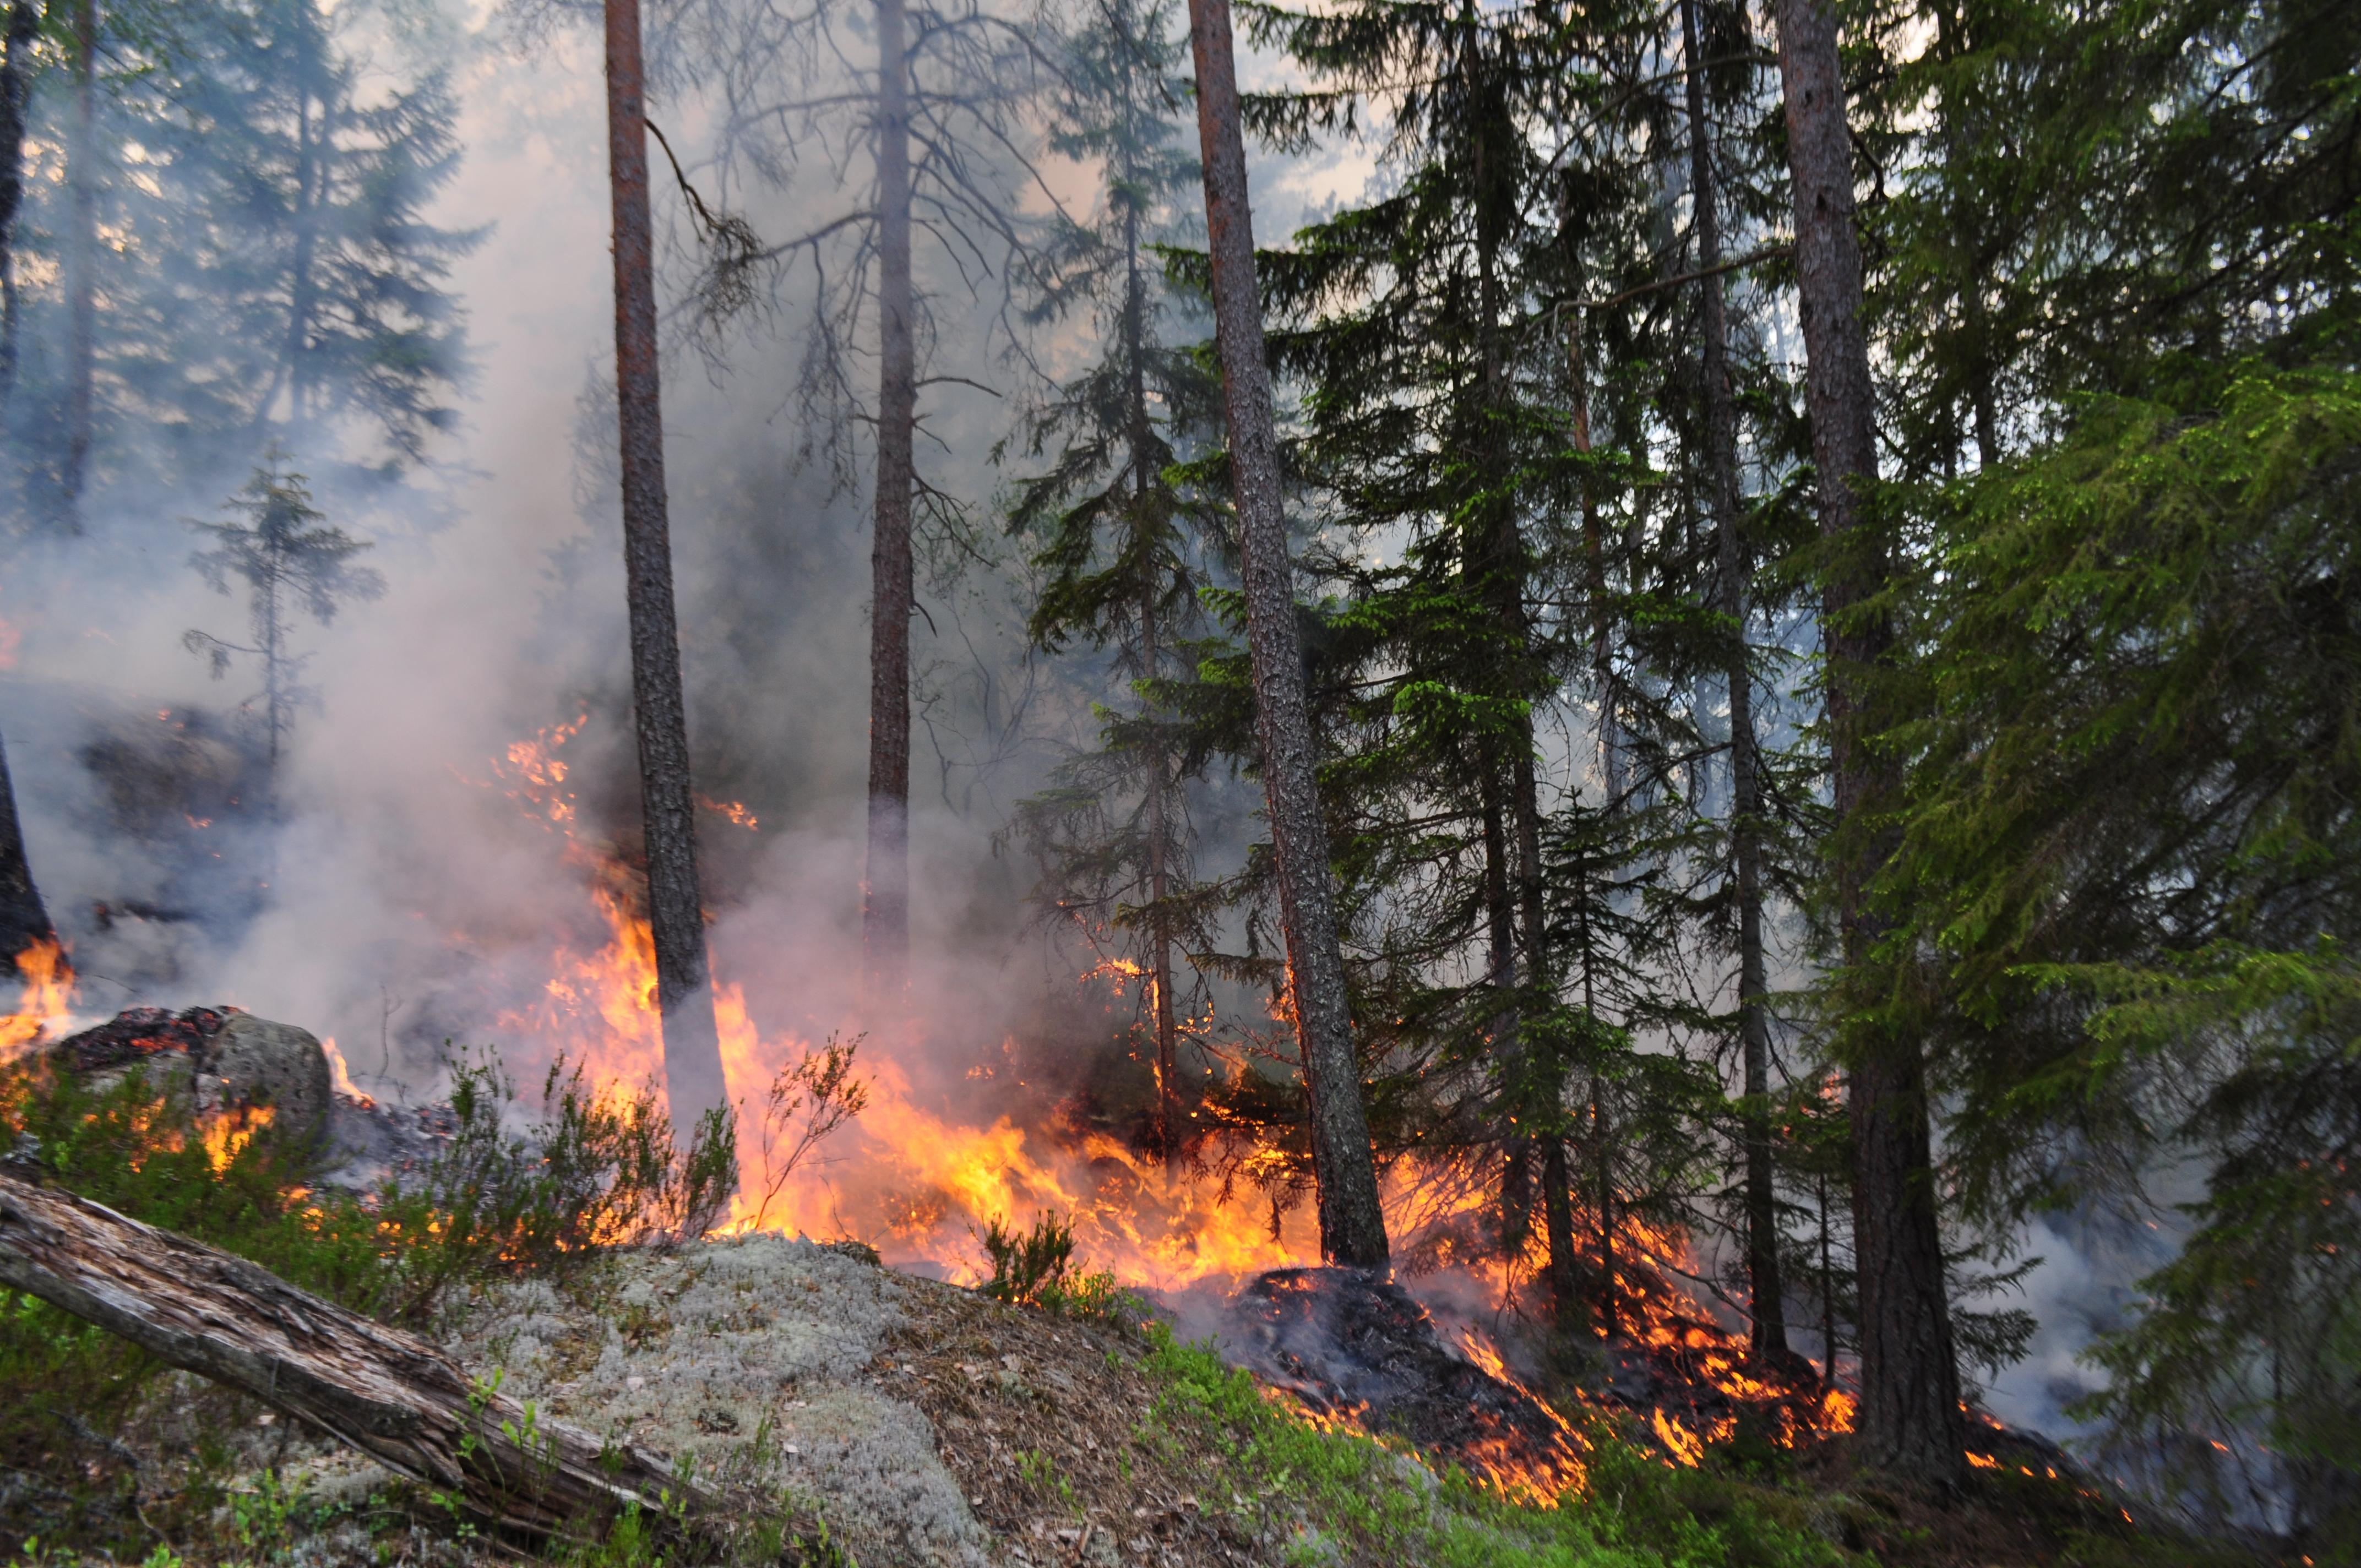Fire: (485, 740, 1866, 1493)
